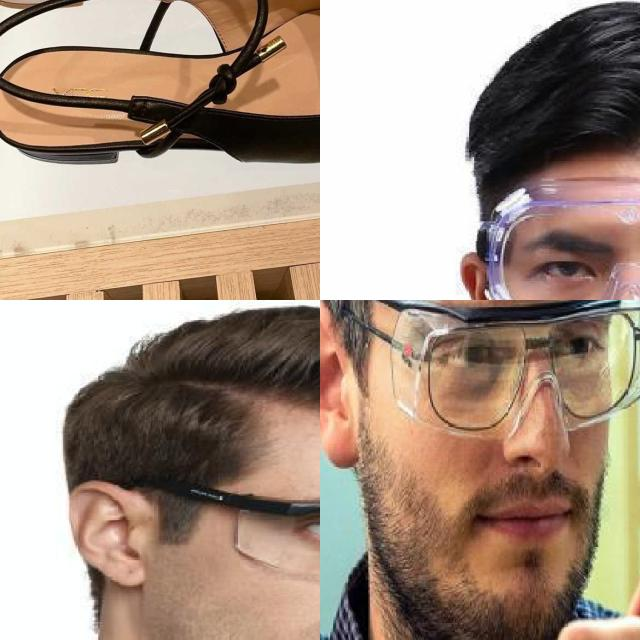No_Ear-Protection: (69, 476, 153, 588), (320, 300, 365, 475)
Sandals: (0, 0, 320, 166)
face_nomask: (413, 300, 620, 581)
glasses: (335, 300, 640, 442), (73, 466, 320, 589), (419, 301, 640, 427), (476, 178, 640, 300)
head_nohelmet: (94, 309, 320, 463), (471, 8, 640, 179)
person: (320, 7, 640, 300)
